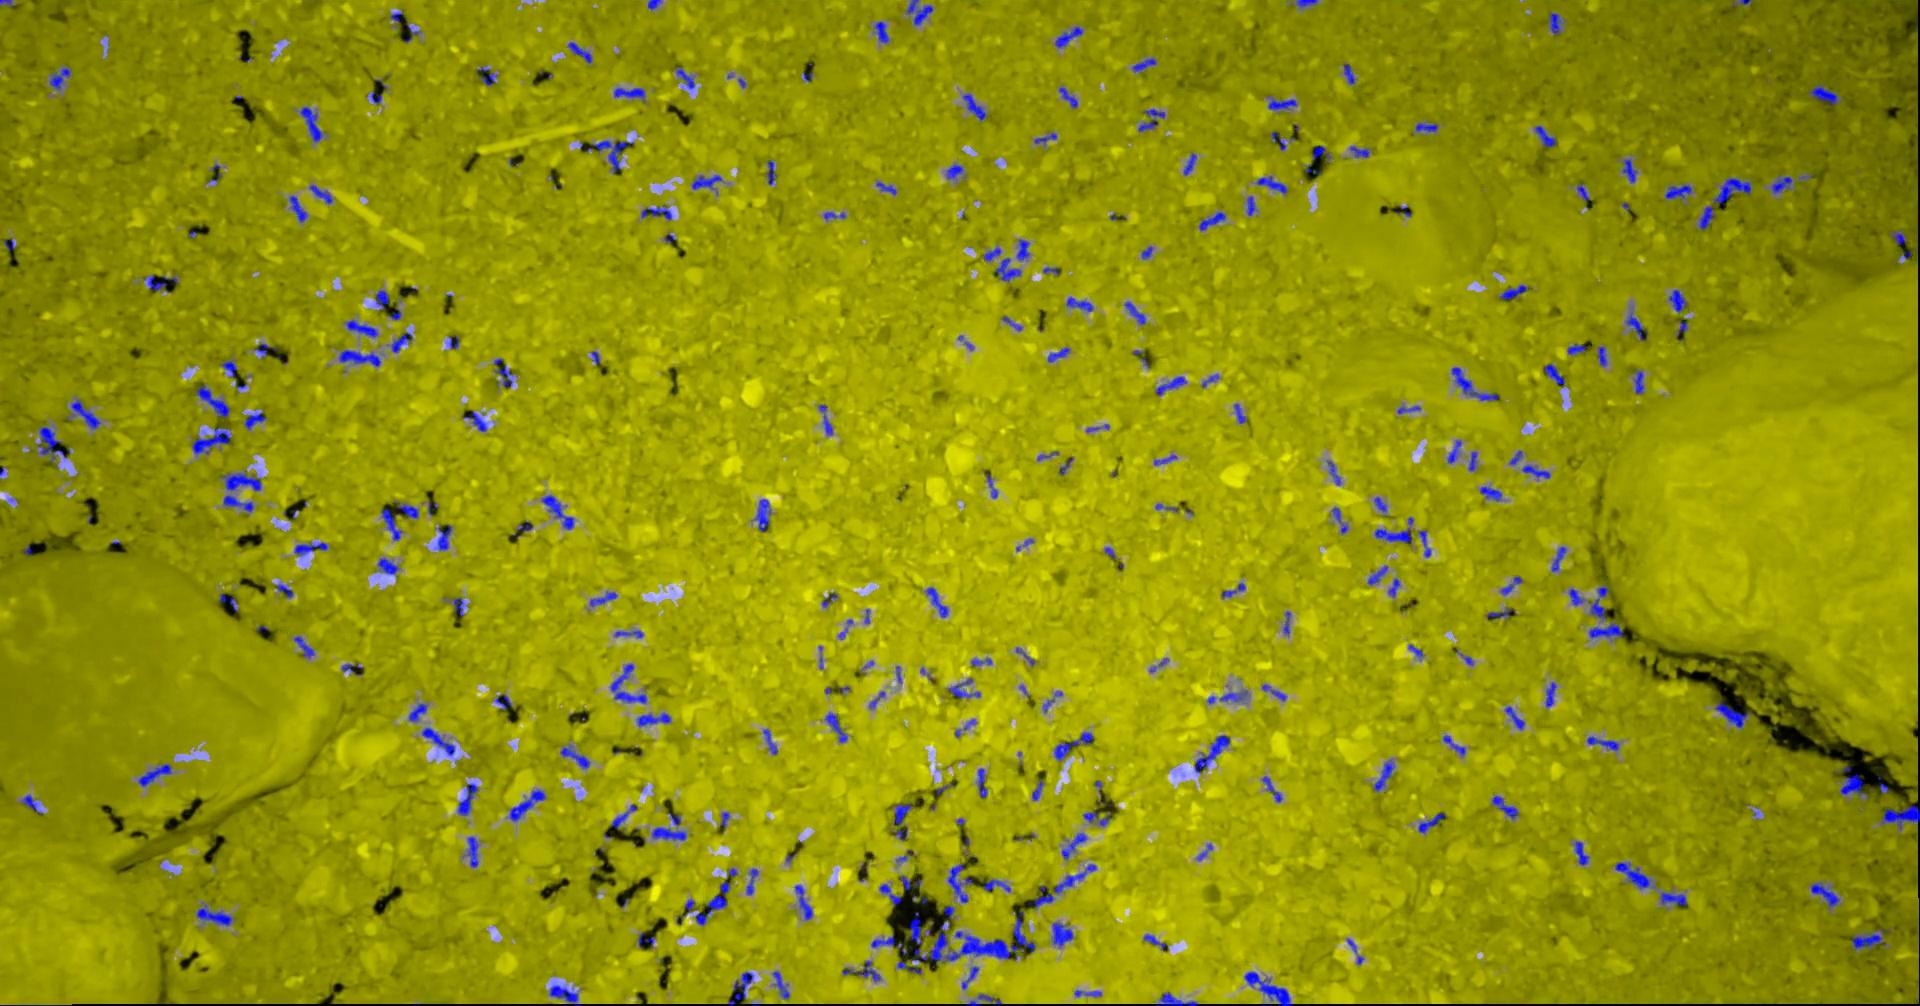ant: (1027, 862, 1096, 908), (1244, 970, 1293, 1005), (1451, 367, 1498, 400), (221, 473, 262, 511), (585, 140, 632, 171), (695, 882, 729, 925), (381, 500, 418, 540), (610, 663, 646, 702), (1194, 735, 1229, 772), (508, 789, 545, 821), (1054, 732, 1093, 760), (196, 384, 229, 417), (541, 494, 573, 528), (190, 427, 230, 453), (1374, 516, 1413, 542), (1713, 177, 1751, 203), (1614, 861, 1652, 888), (1714, 699, 1749, 728), (1879, 804, 1919, 829), (38, 426, 66, 461), (947, 862, 971, 902), (422, 727, 455, 754), (70, 399, 100, 428), (298, 105, 323, 142), (728, 970, 753, 1005), (196, 902, 232, 925), (841, 960, 880, 981), (137, 763, 171, 786), (1851, 929, 1890, 949), (1371, 758, 1394, 791), (1810, 882, 1839, 907), (559, 744, 589, 768), (924, 586, 947, 617), (947, 677, 980, 699), (338, 349, 380, 366), (1807, 84, 1839, 105), (905, 0, 932, 25), (610, 803, 636, 828), (870, 935, 905, 954), (1839, 772, 1867, 796), (457, 782, 477, 815), (549, 984, 582, 1005), (824, 713, 847, 742), (1589, 584, 1608, 619), (994, 257, 1021, 281), (1491, 795, 1517, 819), (1062, 832, 1086, 859), (1137, 108, 1164, 131), (794, 884, 811, 920), (963, 93, 985, 119), (1054, 25, 1082, 47), (1418, 812, 1446, 833), (1154, 991, 1197, 1005), (1255, 175, 1288, 193), (344, 319, 377, 337), (691, 174, 721, 193), (1156, 376, 1186, 395), (1261, 775, 1283, 801), (1625, 312, 1646, 340), (143, 274, 177, 291), (1197, 211, 1225, 230), (568, 41, 590, 64), (879, 883, 902, 906), (1543, 363, 1564, 387), (1051, 922, 1073, 946), (288, 196, 307, 222), (754, 498, 770, 531), (1589, 622, 1622, 638), (1208, 690, 1247, 702), (1082, 808, 1110, 826), (650, 826, 686, 840), (1534, 124, 1556, 147), (1124, 301, 1145, 324), (462, 410, 486, 431), (1503, 705, 1524, 729), (636, 713, 670, 727), (50, 67, 70, 90), (613, 86, 644, 102), (1443, 734, 1465, 754), (1663, 183, 1691, 199), (772, 970, 789, 998), (1586, 735, 1618, 749), (390, 332, 411, 352), (293, 635, 314, 657), (309, 184, 331, 203), (494, 365, 513, 387), (640, 205, 670, 218), (1065, 296, 1093, 311), (818, 404, 832, 434), (1658, 890, 1686, 906), (295, 542, 328, 555), (1261, 683, 1286, 700), (475, 66, 497, 85), (676, 66, 695, 88), (1501, 575, 1523, 594), (1498, 285, 1528, 298), (1521, 464, 1550, 478), (1669, 290, 1686, 312), (589, 591, 616, 606), (762, 728, 777, 754), (893, 803, 910, 826), (965, 993, 1001, 1005), (465, 836, 477, 868), (1698, 205, 1714, 229), (1143, 934, 1167, 950), (1058, 86, 1077, 107), (1622, 158, 1637, 183), (1550, 546, 1566, 572), (22, 794, 42, 813), (1770, 175, 1792, 193), (244, 412, 265, 429), (1222, 582, 1244, 598), (961, 967, 978, 989), (1267, 98, 1297, 111), (1131, 57, 1156, 72), (1368, 565, 1387, 584), (218, 592, 237, 611), (1048, 345, 1069, 362), (437, 525, 451, 550), (982, 878, 1010, 890), (408, 702, 425, 721), (745, 868, 758, 894), (1448, 439, 1462, 464), (1326, 460, 1340, 484), (1575, 841, 1589, 865), (377, 558, 397, 574), (872, 22, 888, 43), (1479, 485, 1501, 500), (899, 875, 921, 890), (1418, 530, 1430, 558), (1270, 131, 1286, 150), (1548, 11, 1561, 36), (897, 960, 921, 973), (875, 180, 897, 194), (1183, 152, 1196, 175), (255, 342, 276, 356), (1233, 403, 1247, 423), (985, 473, 997, 497), (1016, 239, 1029, 260), (946, 163, 963, 179), (637, 931, 654, 948), (1312, 145, 1330, 160), (221, 359, 236, 377), (1545, 681, 1556, 708), (375, 290, 389, 309), (1034, 132, 1057, 144), (1349, 145, 1369, 158), (766, 159, 776, 184), (1568, 588, 1583, 605), (494, 694, 510, 709), (977, 768, 985, 796), (1031, 779, 1043, 800), (1373, 495, 1385, 514), (1387, 578, 1399, 597), (1486, 608, 1512, 617), (1343, 64, 1355, 84), (1890, 230, 1905, 245), (1633, 370, 1643, 392), (342, 663, 362, 674), (983, 246, 999, 260), (276, 583, 292, 597), (1676, 321, 1688, 340), (1567, 343, 1586, 354), (1576, 183, 1589, 199), (1415, 122, 1437, 131), (1246, 196, 1256, 215), (453, 597, 463, 616), (823, 211, 844, 220), (1597, 345, 1606, 366), (615, 630, 643, 636), (1397, 405, 1420, 413), (1283, 611, 1290, 634), (971, 657, 990, 666), (1074, 989, 1101, 996), (1295, 0, 1317, 8), (1468, 451, 1476, 470), (648, 0, 662, 10), (448, 335, 458, 348)
